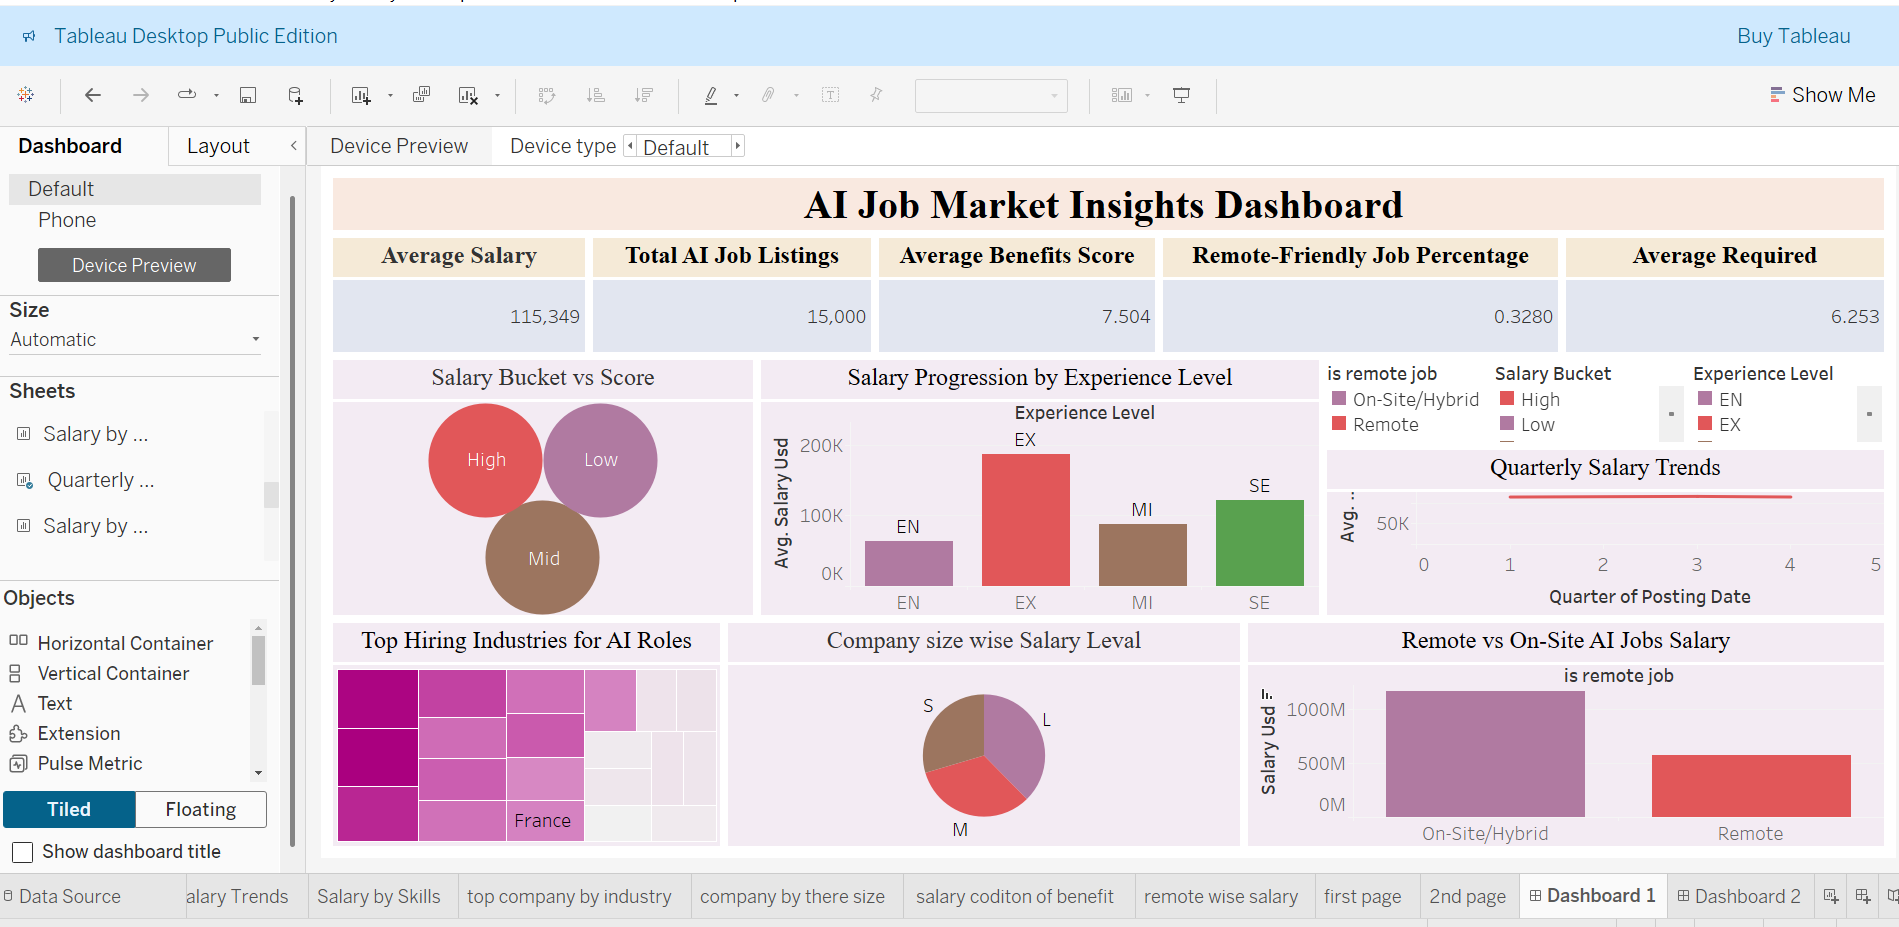

What the dashboard file says about the page in this screenshot:
{"tool":"tableau","page":{"name":"Dashboard 1","canvas":[1000,1000],"units":"permille","ordinal":0},"visuals":[{"type":"worksheet","title":"first page ","mark":"Automatic","box":[5.1,11.6,989.8,86.7]},{"type":"worksheet","title":"avg salary","mark":"Automatic","box":[5.1,98.3,165.1,176.3]},{"type":"worksheet","title":"total job","mark":"Automatic","box":[170.1,98.3,181.6,176.3]},{"type":"worksheet","title":"avg benefit score","mark":"Automatic","box":[351.7,98.3,180.3,176.3]},{"type":"worksheet","title":"remote job","mark":"Automatic","box":[532,98.3,255.9,176.3]},{"type":"worksheet","title":"avg year of exp","mark":"Automatic","box":[787.9,98.3,207,176.3]},{"type":"worksheet","title":" salary coditon of benefit","mark":"Circle","box":[5.1,274.6,271.8,380.1]},{"type":"worksheet","title":"Salary by Experience Level","mark":"Automatic","rows":["salary_usd"],"cols":["experience_level"],"box":[276.8,274.6,359.1,380.1]},{"type":"legend","title":"remote wise salary","param":"[federated.05b047h0ccibud13tod7z0kouaq4].[none:Calculation_1180224611303895047:n","box":[635.9,274.6,106.7,130.1]},{"type":"legend","title":" salary coditon of benefit","param":"[federated.05b047h0ccibud13tod7z0kouaq4].[none:Calculation_1180224611301638150:n","box":[742.6,274.6,126.2,130.1]},{"type":"legend","title":"Salary by Experience Level","param":"[federated.05b047h0ccibud13tod7z0kouaq4].[none:experience_level:nk]","box":[868.7,274.6,126.2,130.1]},{"type":"worksheet","title":" Quarterly Salary Trends","mark":"Automatic","rows":["salary_usd"],"cols":["posting_date"],"box":[635.9,404.6,359,250]},{"type":"worksheet","title":"top company by industry","mark":"Automatic","box":[5.1,654.6,250.8,333.8]},{"type":"worksheet","title":"company by there size","mark":"Pie","box":[255.9,654.6,330.2,333.8]},{"type":"worksheet","title":"remote wise salary","mark":"Automatic","rows":["salary_usd"],"cols":["Calculation_1180224611303895047"],"box":[586,654.6,408.9,333.8]}]}

Visuals, with their boxes on the dashboard's canvas, which has no fixed pixel size, in thousandths of its width and height (x1, y1, x2, y2). These are canvas units, not pixel positions in the 1899x927 screenshot, which may show the page scaled, cropped or inside an application window:
"first page " worksheet: 5 12 995 98
"avg salary" worksheet: 5 98 170 275
"total job" worksheet: 170 98 352 275
"avg benefit score" worksheet: 352 98 532 275
"remote job" worksheet: 532 98 788 275
"avg year of exp" worksheet: 788 98 995 275
" salary coditon of benefit" worksheet (Circle marks): 5 275 277 655
"Salary by Experience Level" worksheet: 277 275 636 655
"remote wise salary" legend: 636 275 743 405
" salary coditon of benefit" legend: 743 275 869 405
"Salary by Experience Level" legend: 869 275 995 405
" Quarterly Salary Trends" worksheet: 636 405 995 655
"top company by industry" worksheet: 5 655 256 988
"company by there size" worksheet (Pie marks): 256 655 586 988
"remote wise salary" worksheet: 586 655 995 988
